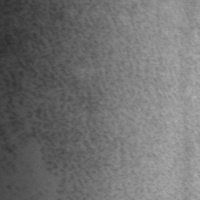pitted_surface: (0, 1, 154, 200)
